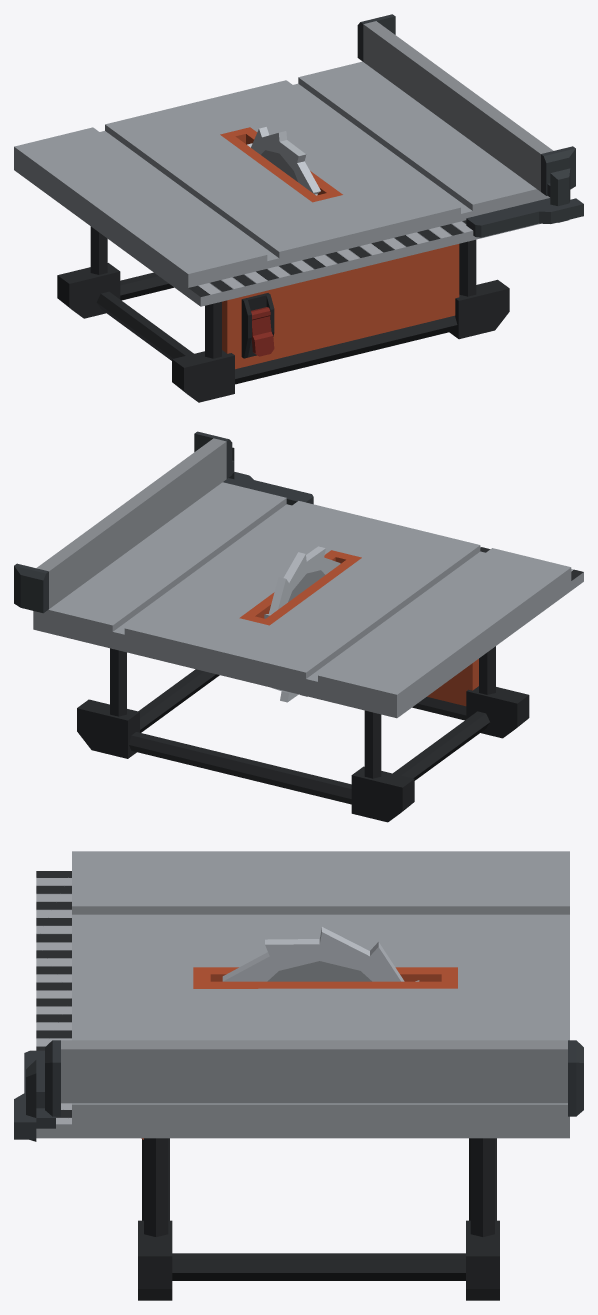
Rendered from SM_Prop_Table_Saw_01.fbx.
3 views of the same model, one above another, from view 1: azimuth 30°, elevation 25°; view 2: azimuth 150°, elevation 25°; view 3: azimuth 270°, elevation 25° (orthographic). The views are drawn at different scales.
Parts seen in each view (by area): view 1: SM_Prop_Table_Saw_01, SM_Prop_Table_Saw_01_Guide, SM_Prop_Table_Saw_01_Blade; view 2: SM_Prop_Table_Saw_01, SM_Prop_Table_Saw_01_Guide, SM_Prop_Table_Saw_01_Blade; view 3: SM_Prop_Table_Saw_01, SM_Prop_Table_Saw_01_Guide, SM_Prop_Table_Saw_01_Blade.
Boxes of the visible parts, left/top/right/bottom form: SM_Prop_Table_Saw_01: left=14, top=61, right=549, bottom=402; SM_Prop_Table_Saw_01_Guide: left=357, top=14, right=583, bottom=237; SM_Prop_Table_Saw_01_Blade: left=247, top=127, right=320, bottom=195; SM_Prop_Table_Saw_01: left=33, top=482, right=583, bottom=822; SM_Prop_Table_Saw_01_Guide: left=14, top=431, right=313, bottom=613; SM_Prop_Table_Saw_01_Blade: left=264, top=546, right=340, bottom=702; SM_Prop_Table_Saw_01: left=36, top=851, right=569, bottom=1300; SM_Prop_Table_Saw_01_Guide: left=14, top=1040, right=583, bottom=1141; SM_Prop_Table_Saw_01_Blade: left=222, top=927, right=419, bottom=981.
Bounding box in the file's own units: 105 × 50.62 × 95.57.
